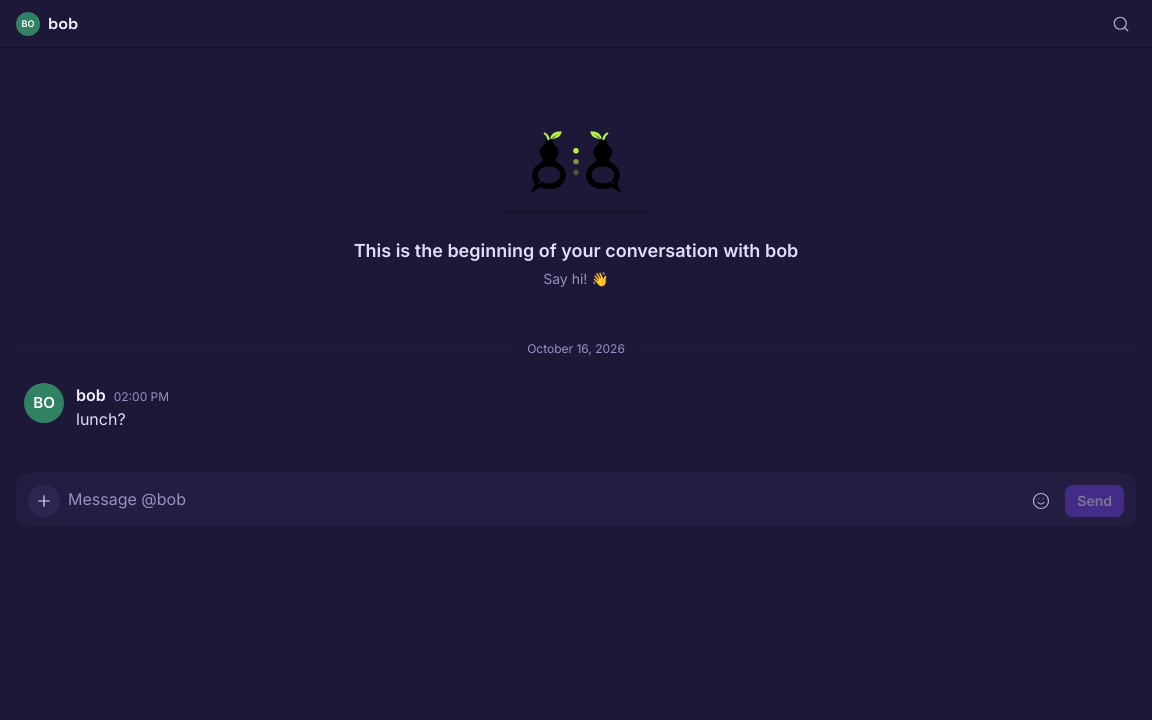
Test case: replying to a DM shows who you are replying to and sends the original id (P2-10)
Press r in the element showing "BO bob 02:00 PM lunch?", box [24,383,169,429]
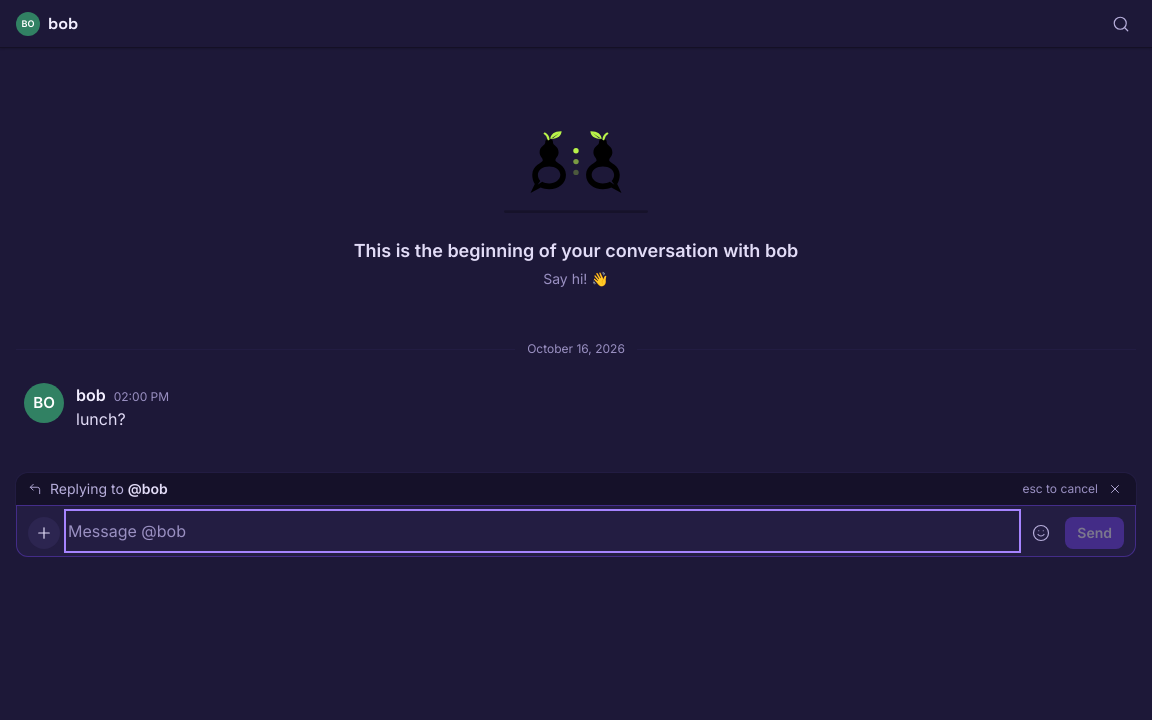
Now the text "Replying to @bob" is shown, box [50,480,168,497]
In the text box labelled "Message @bob": (543, 531) [68,513,1017,549], type "yes!"
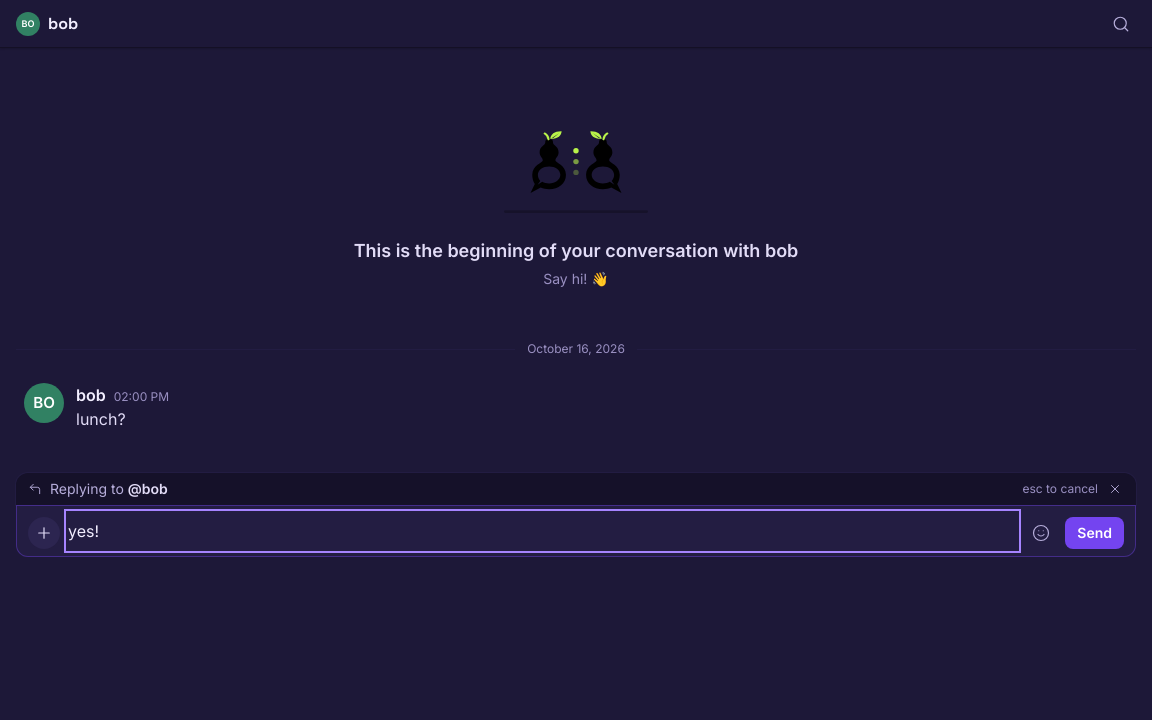
Press Enter in the text box named "Message @bob", box [68,513,1017,549]
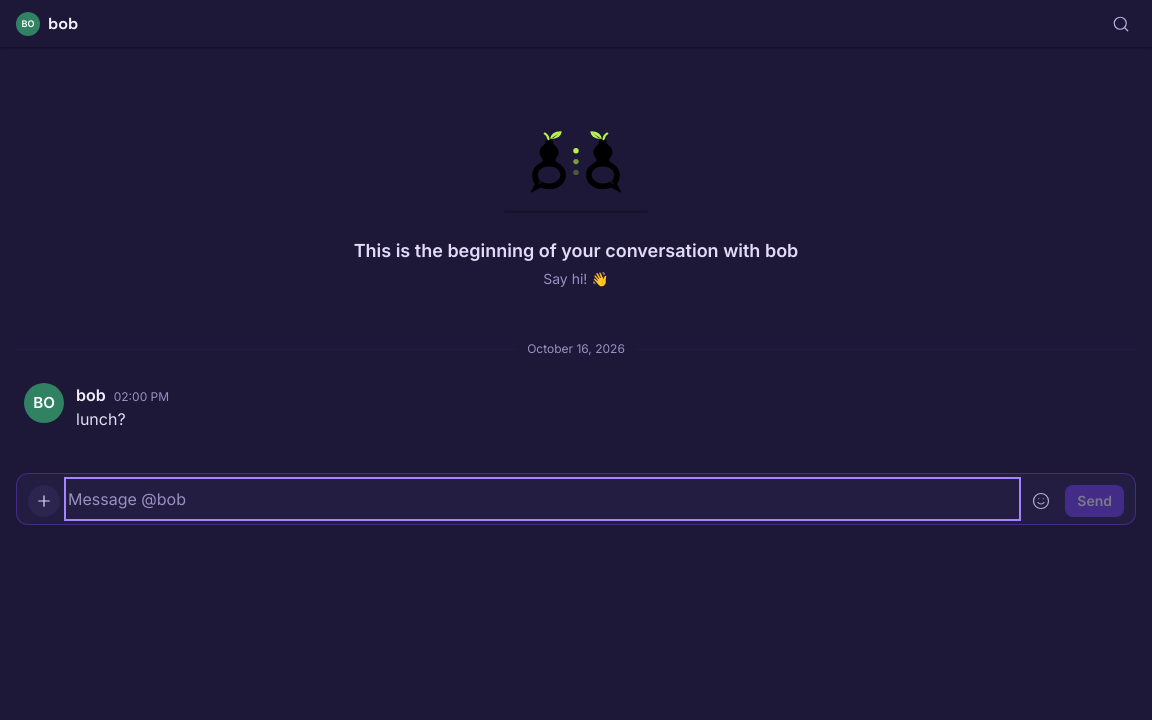
Now the text "Replying to" is gone
